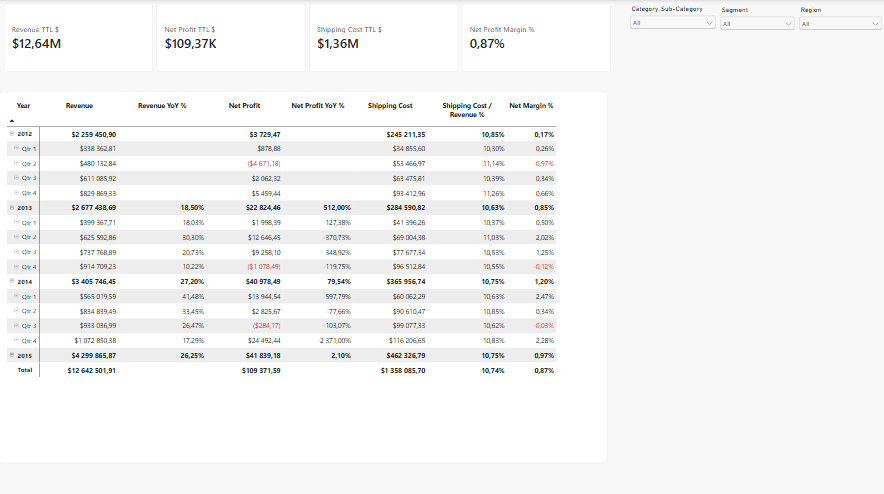

This screenshot's page, from the dashboard's own definition file:
{"tool":"powerbi","page":{"name":"Revenue, Costs & Profit Dashboard","canvas":[1920,1080],"ordinal":1},"visuals":[{"type":"pivotTable","fields":{"Rows":["Dim_Calendar.Date.Variation.Date Hierarchy.Year","Dim_Calendar.Date.Variation.Date Hierarchy.Quarter","Dim_Calendar.Date.Variation.Date Hierarchy.Month"],"Values":["_Measures.Revenue TTL $","_Measures.Revenue MoM $","_Measures.Net Profit TTL $","_Measures.Net Profit YoY $","_Measures.Shipping Cost TTL $","_Measures.Shipping Cost QoQ $","_Measures.Profit Margin %"]},"box":[286.3,188.7,988.9,861],"z":0},{"type":"slicer","fields":{"Values":["Dim_Customers.Segment"]},"box":[1559.3,15.2,171.3,143.1],"z":1000},{"type":"slicer","fields":{"Values":["Dim_Adress.Region"]},"box":[1730.6,15.2,188.7,910.8],"z":2000},{"type":"slicer","fields":{"Values":["Dim_Product.Product Hierarchy.Category","Dim_Product.Product Hierarchy.Sub-Category"]},"box":[1364.1,13,195.2,145.3],"z":3000},{"type":"cardVisual","fields":{"Data":["_Measures.Revenue TTL $","_Measures.Net Profit TTL $","_Measures.Shipping Cost TTL $","_Measures.Profit Margin %"]},"box":[10.8,8.7,1318.6,149.6],"z":4000}]}

Visuals, with their boxes in screenshot pixels (x1, y1, x2, y2), scaled from the page's 1920x1080 canvas onto the 884x494 screenshot:
pivotTable - Dim_Calendar.Date.Variation.Date Hierarchy.Year x Dim_Calendar.Date.Variation.Date Hierarchy.Quarter: {"left": 132, "top": 86, "right": 587, "bottom": 480}
slicer - Dim_Customers.Segment: {"left": 718, "top": 7, "right": 797, "bottom": 72}
slicer - Dim_Adress.Region: {"left": 797, "top": 7, "right": 883, "bottom": 424}
slicer - Dim_Product.Product Hierarchy.Category x Dim_Product.Product Hierarchy.Sub-Category: {"left": 628, "top": 6, "right": 718, "bottom": 72}
cardVisual - _Measures.Revenue TTL $ x _Measures.Net Profit TTL $: {"left": 5, "top": 4, "right": 612, "bottom": 72}
